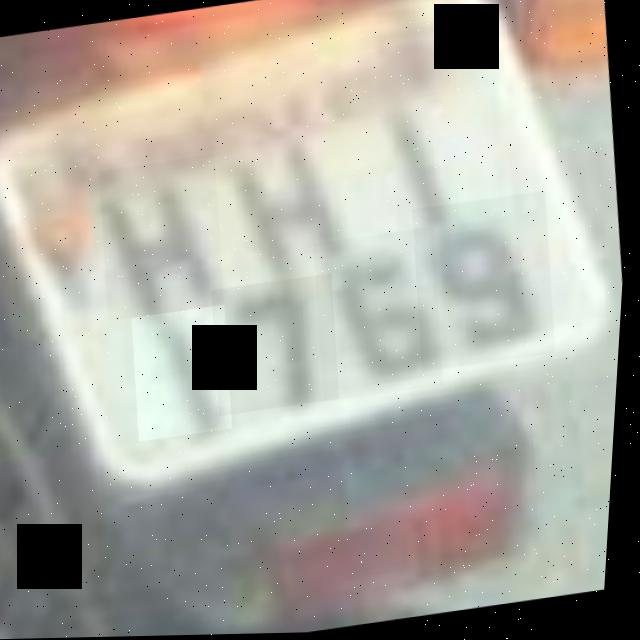1: (129, 305, 243, 442)
6: (308, 228, 455, 404)
7: (209, 274, 350, 417)
9: (407, 192, 567, 374)
H: (93, 154, 235, 322)
